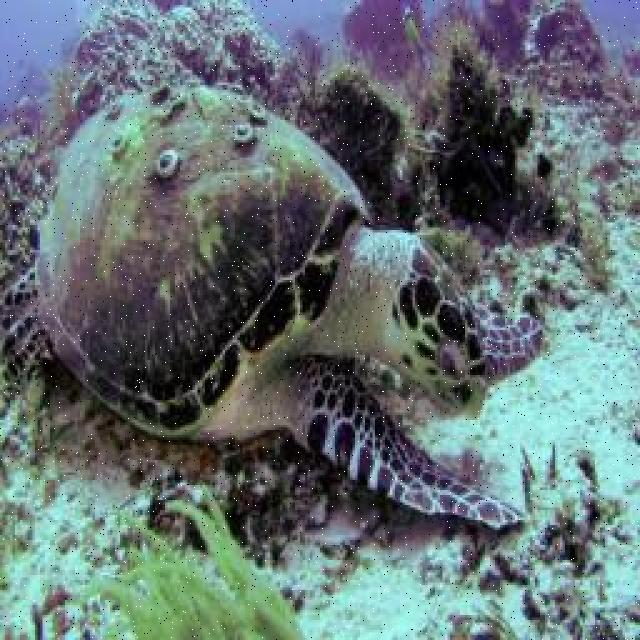aquatic plants: (93, 483, 308, 638)
fish: (33, 87, 542, 528)
